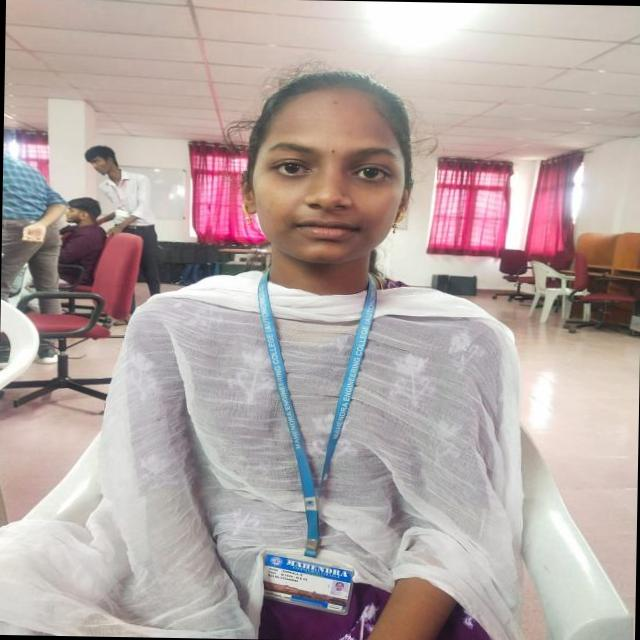id_card: (253, 268, 374, 617)
